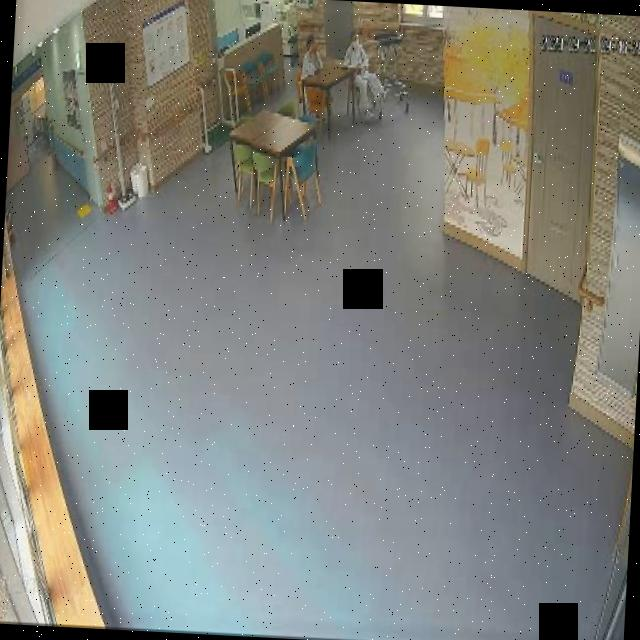patient: (338, 31, 392, 126), (292, 27, 326, 82)
sit: (338, 32, 391, 124)
walker: (365, 27, 416, 120)
